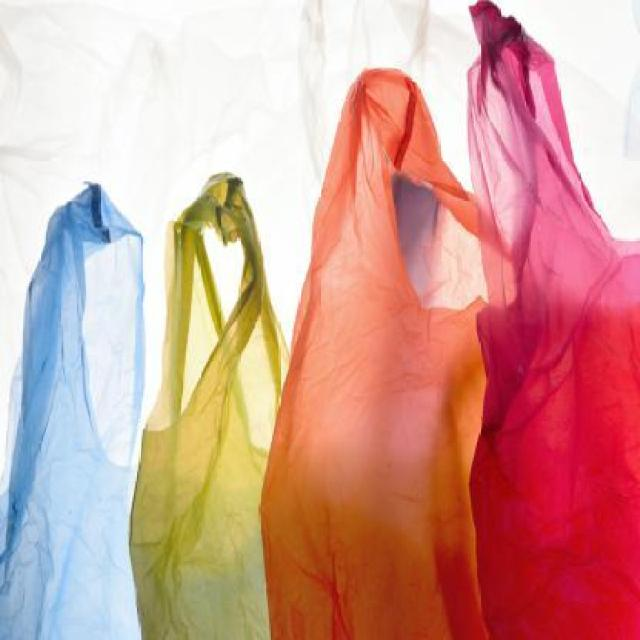plastic bag: (266, 56, 487, 640), (455, 4, 639, 640), (132, 174, 278, 636), (2, 172, 139, 638)
